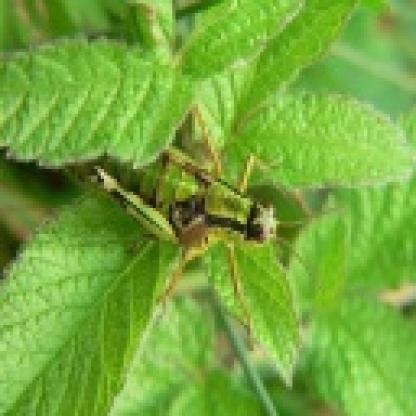grasshopper: (92, 119, 291, 272)
